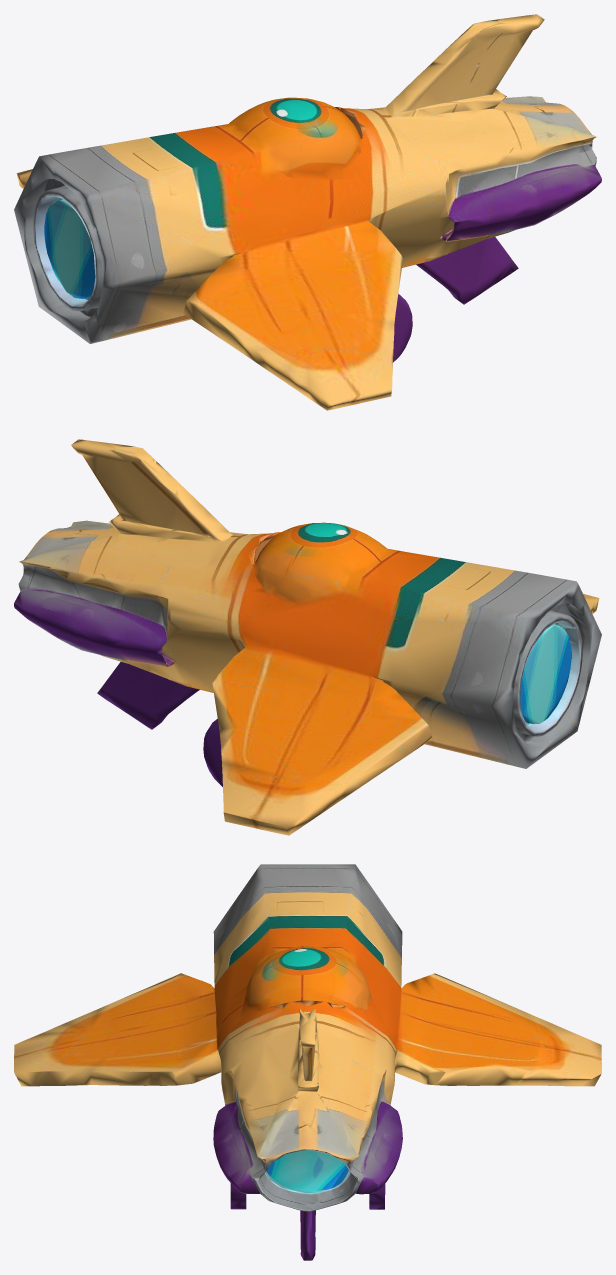
File: alien-b.glb
3 renders of one model, top to bottom at view 1: azimuth 30°, elevation 25°; view 2: azimuth 150°, elevation 25°; view 3: azimuth 270°, elevation 25°, orthographic. The views are drawn at different scales.
Size of the model in its own units: 1.77 by 0.9377 by 1.9.
Materials: 1 (1 with a texture image).
